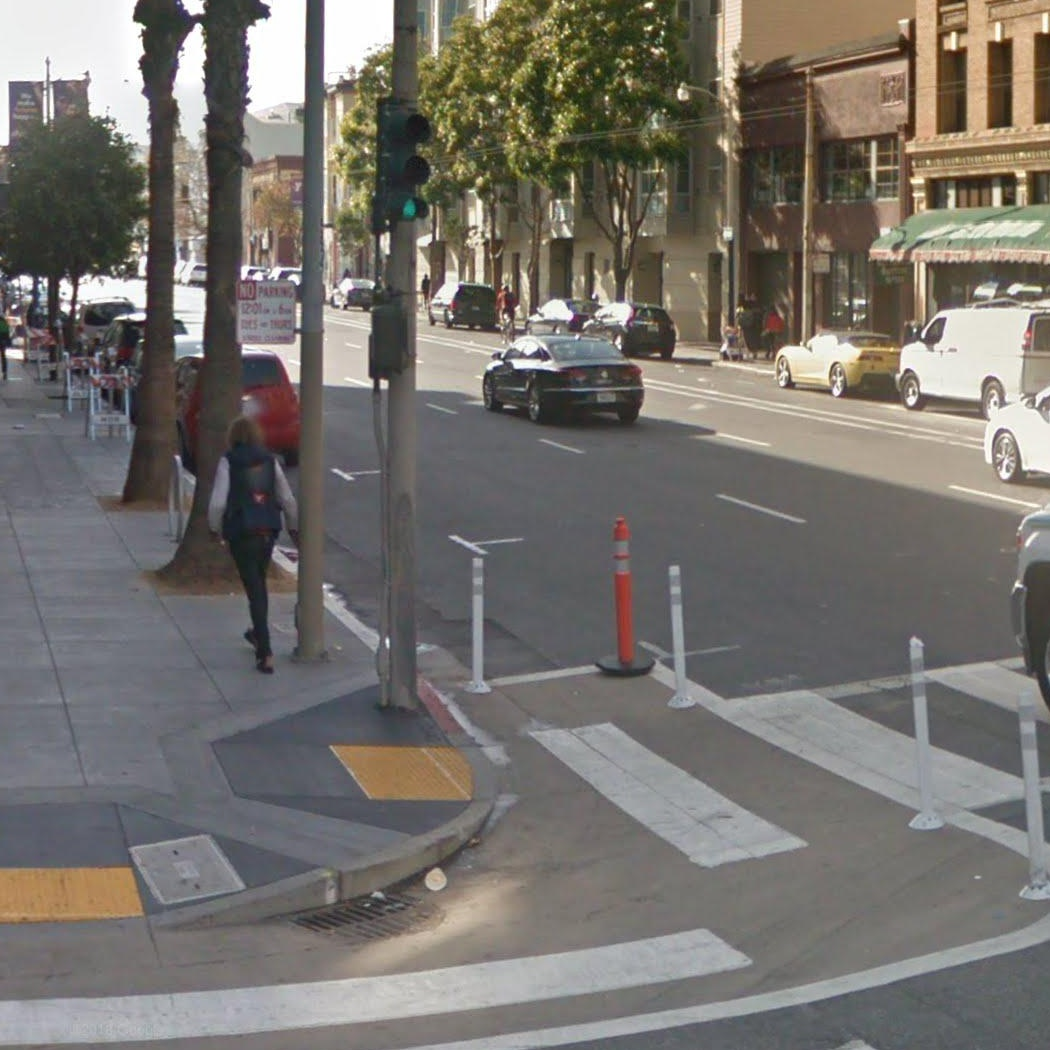No Parking: (235, 277, 297, 347)
